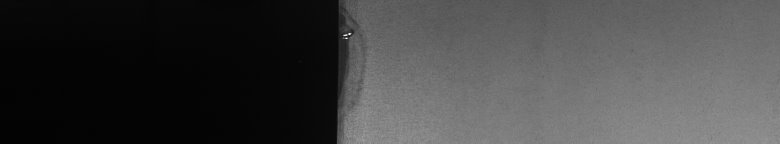hb: (348, 4, 372, 110)
